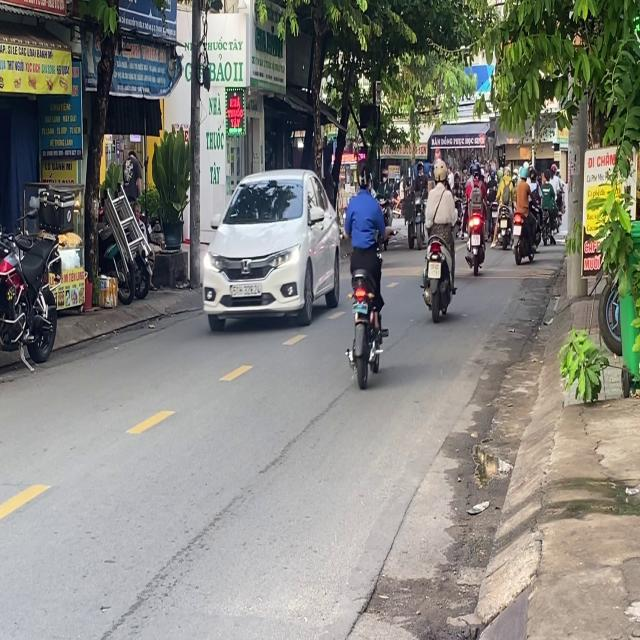helmet: (432, 158, 447, 184)
licenseplate: (342, 157, 389, 386), (419, 157, 458, 320)
motorcyclist: (355, 160, 372, 192)
nohelmet: (428, 262, 442, 278)
